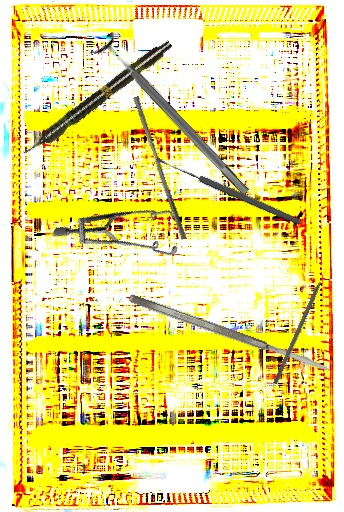Fixation Ring: (88, 30, 259, 204)
Handpiece: (19, 37, 175, 160)
Hook Surgical: (272, 266, 331, 386)
Pusher: (127, 95, 193, 241)
Spatula Surgical: (127, 291, 332, 377)
Speculum: (51, 158, 197, 298)
Surgical Spoon: (154, 154, 303, 227)
